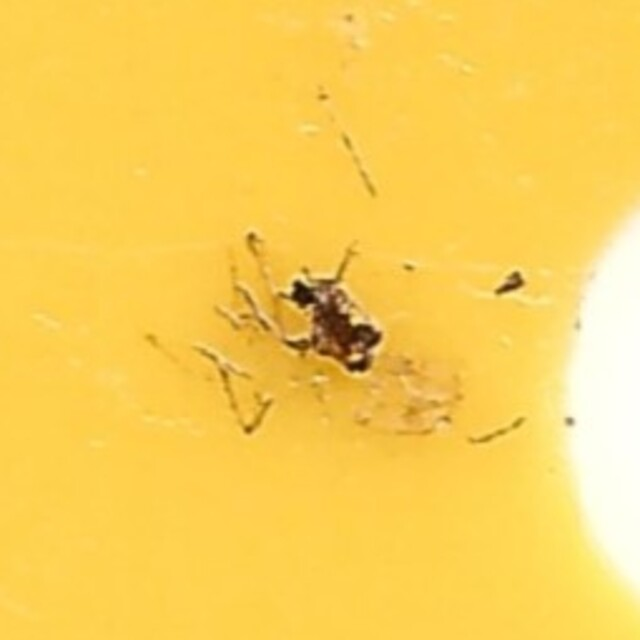Nematocera: (251, 247, 389, 393)
